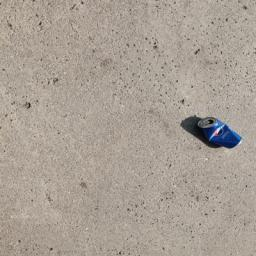FOD: (179, 107, 246, 155)
